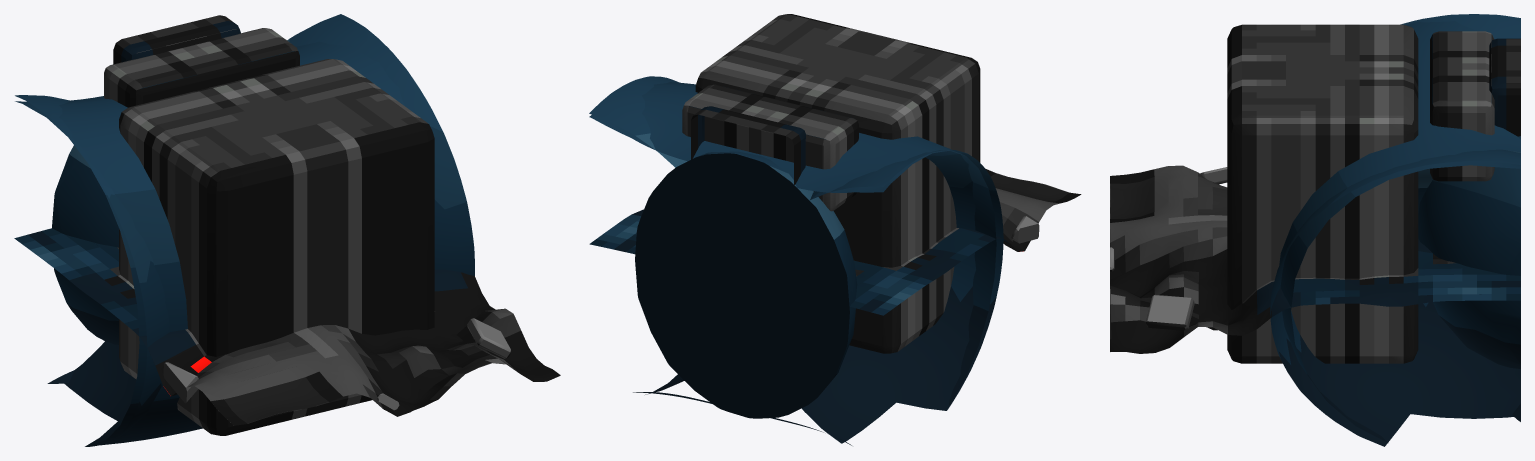
Rendered from camanis_boss_129.glb.
3 renders of one model, left to right at view 1: azimuth 30°, elevation 25°; view 2: azimuth 150°, elevation 25°; view 3: azimuth 270°, elevation 25°, orthographic. The views are drawn at different scales.
Parts seen in each view (by area): view 1: camanis_boss_129_block, camanis_boss_129_hull, camanis_boss_129_tank, camanis_boss_129_block_plate, camanis_boss_129_tank_lobe, camanis_boss_129_tank_lobe_m, camanis_boss_129_tank_core, camanis_boss_129_block_vent, camanis_boss_129_debris8, camanis_boss_129_debris29; view 2: camanis_boss_129_tank_core, camanis_boss_129_block, camanis_boss_129_tank_lobe, camanis_boss_129_tank, camanis_boss_129_hull, camanis_boss_129_block_plate, camanis_boss_129_tank_lobe_m, camanis_boss_129_block_vent, camanis_boss_129_debris29; view 3: camanis_boss_129_block, camanis_boss_129_hull, camanis_boss_129_tank_lobe_m, camanis_boss_129_tank_core, camanis_boss_129_tank, camanis_boss_129_block_plate, camanis_boss_129_block_vent, camanis_boss_129_debris8, camanis_boss_129_tank_lobe.
Part boxes in pixels (left/top/right/bottom): camanis_boss_129_block: left=119, top=59, right=434, bottom=435; camanis_boss_129_hull: left=14, top=228, right=560, bottom=425; camanis_boss_129_tank: left=15, top=41, right=405, bottom=445; camanis_boss_129_block_plate: left=104, top=28, right=299, bottom=107; camanis_boss_129_tank_lobe: left=15, top=95, right=169, bottom=446; camanis_boss_129_tank_lobe_m: left=287, top=14, right=474, bottom=275; camanis_boss_129_tank_core: left=52, top=145, right=118, bottom=344; camanis_boss_129_block_vent: left=113, top=15, right=240, bottom=64; camanis_boss_129_debris8: left=467, top=318, right=511, bottom=358; camanis_boss_129_debris29: left=163, top=362, right=198, bottom=403; camanis_boss_129_tank_core: left=635, top=151, right=857, bottom=418; camanis_boss_129_block: left=695, top=14, right=980, bottom=353; camanis_boss_129_tank_lobe: left=802, top=150, right=1003, bottom=443; camanis_boss_129_tank: left=589, top=82, right=996, bottom=445; camanis_boss_129_hull: left=589, top=169, right=1081, bottom=315; camanis_boss_129_block_plate: left=682, top=84, right=858, bottom=211; camanis_boss_129_tank_lobe_m: left=589, top=76, right=687, bottom=394; camanis_boss_129_block_vent: left=691, top=106, right=805, bottom=184; camanis_boss_129_debris29: left=1011, top=216, right=1039, bottom=243; camanis_boss_129_block: left=1227, top=24, right=1418, bottom=363; camanis_boss_129_hull: left=1110, top=165, right=1520, bottom=353; camanis_boss_129_tank_lobe_m: left=1270, top=149, right=1520, bottom=446; camanis_boss_129_tank_core: left=1418, top=136, right=1520, bottom=368; camanis_boss_129_tank: left=1279, top=20, right=1520, bottom=442; camanis_boss_129_block_plate: left=1430, top=31, right=1494, bottom=181; camanis_boss_129_block_vent: left=1489, top=38, right=1520, bottom=136; camanis_boss_129_debris8: left=1145, top=294, right=1194, bottom=330; camanis_boss_129_tank_lobe: left=1400, top=14, right=1520, bottom=39.
Size of the model in its own units: 23.98 by 23.2 by 27.98.
